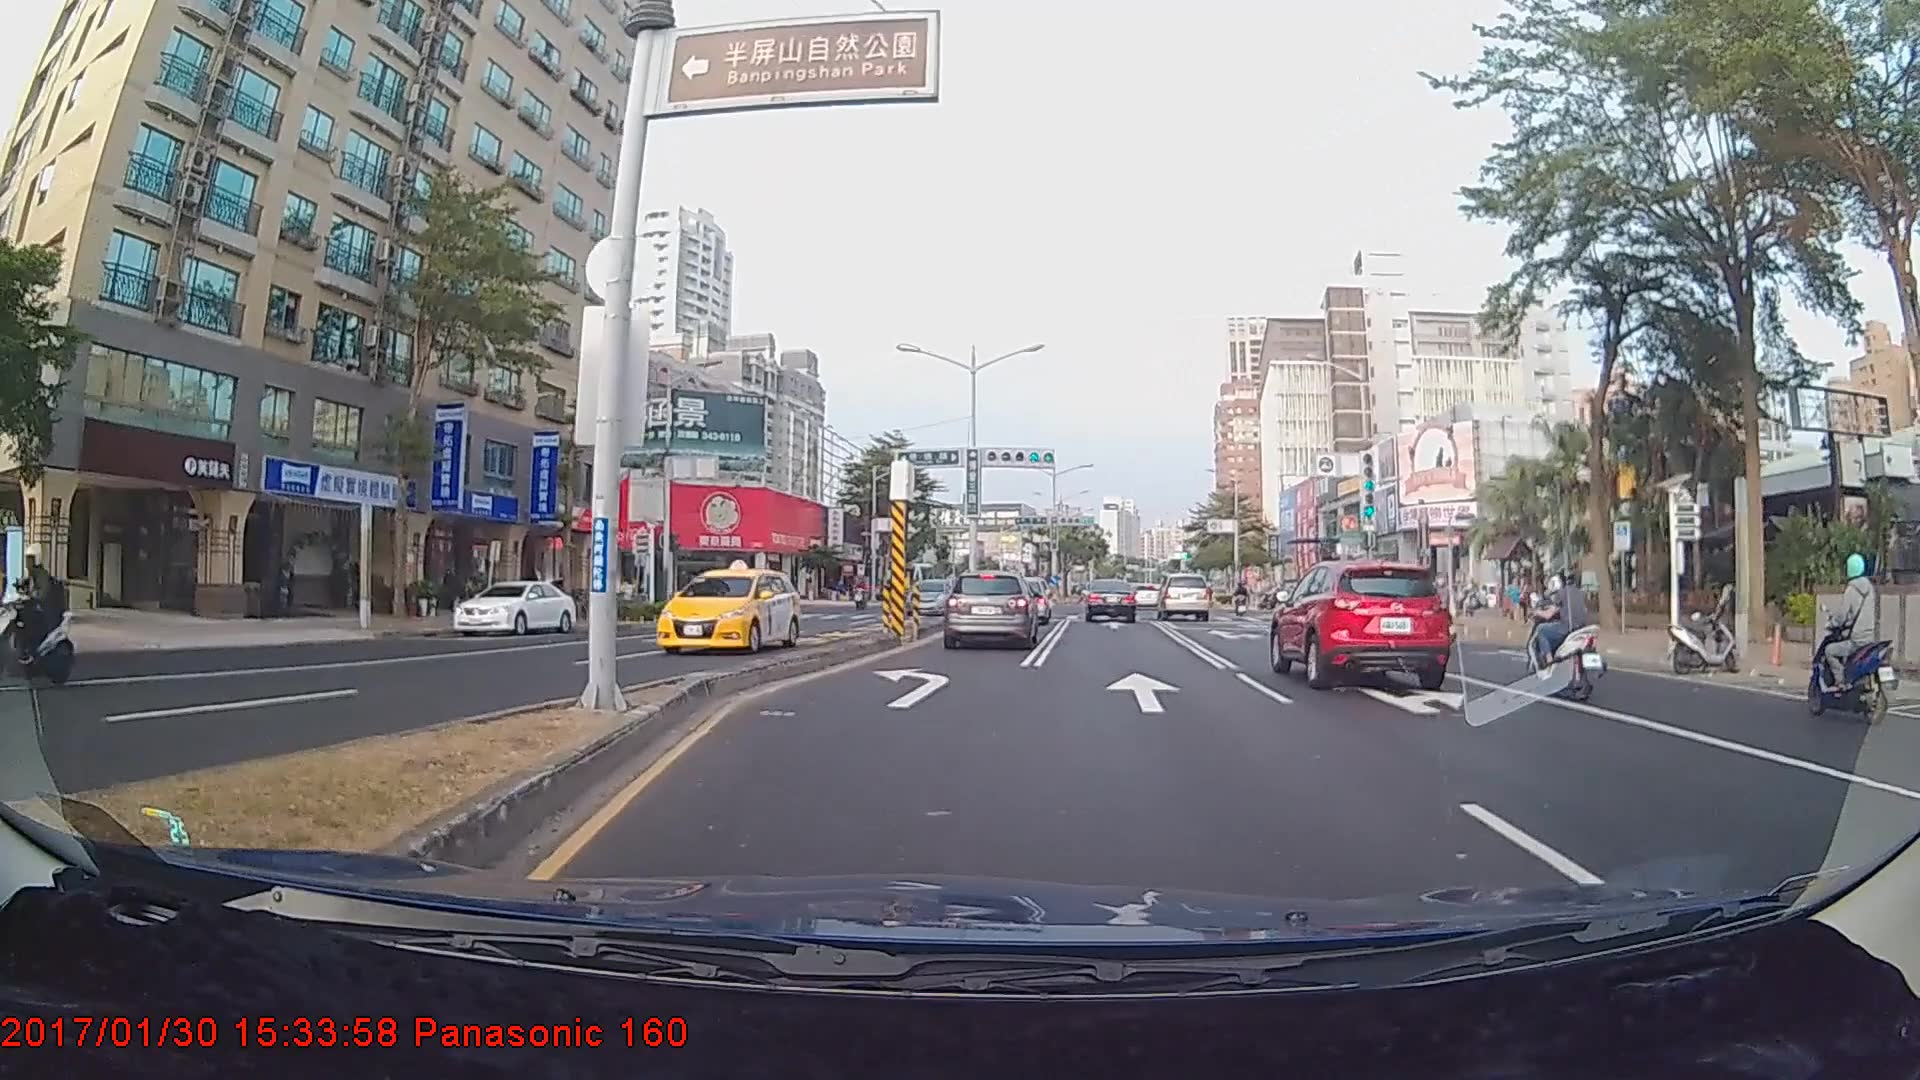rider: (1806, 551, 1902, 734), (1, 543, 115, 687), (1520, 564, 1609, 702)
vehicle: (1270, 553, 1450, 689), (656, 566, 802, 656), (942, 570, 1037, 650), (455, 580, 575, 640), (1156, 573, 1210, 622), (1081, 578, 1135, 623), (906, 579, 956, 615)
